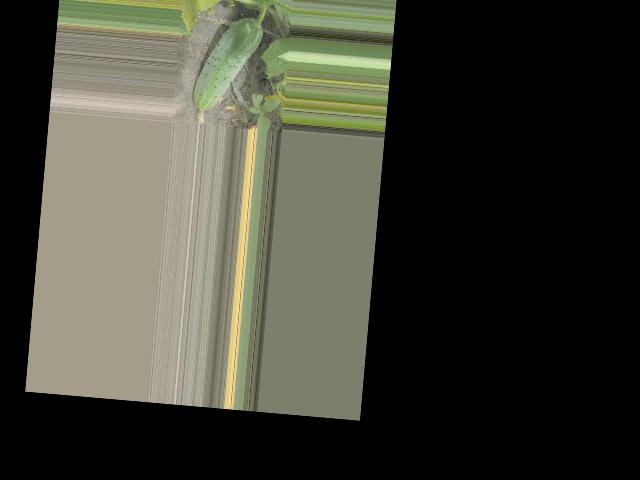cucumber: (190, 14, 264, 129)
